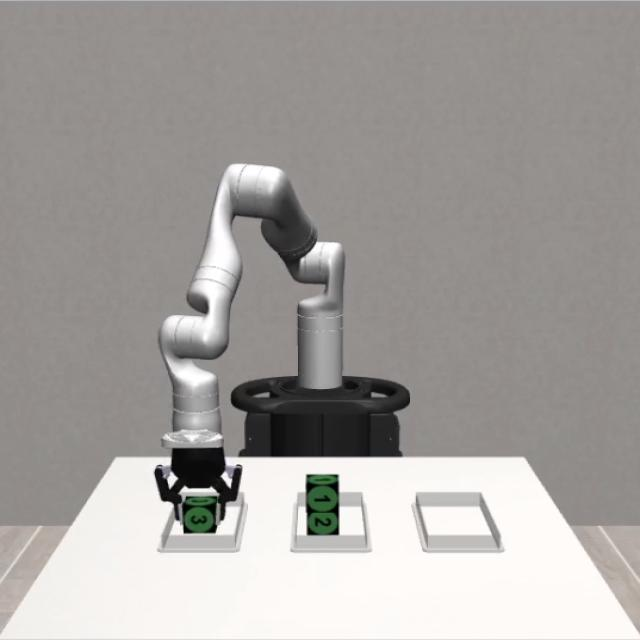cube1: (306, 472, 339, 510)
cube2: (308, 506, 340, 536)
cube3: (182, 496, 218, 534)
